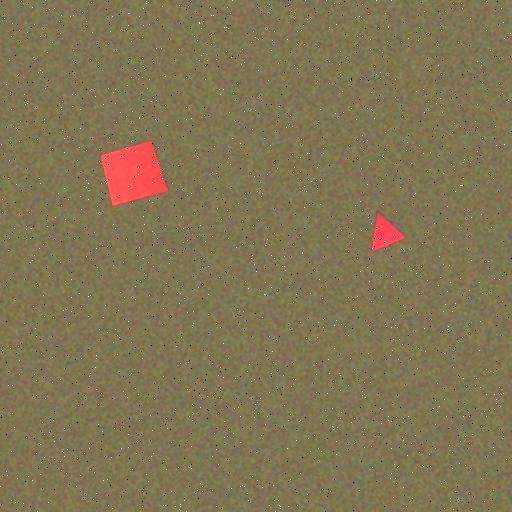RED_SQUARE: (99, 140, 170, 206)
